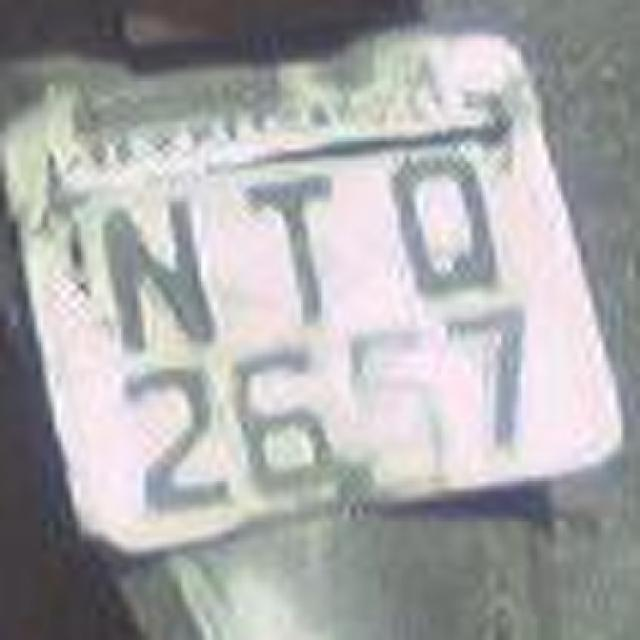2: (100, 352, 255, 528)
6: (212, 328, 360, 504)
7: (424, 280, 568, 452), (325, 304, 460, 476)
N: (84, 184, 224, 368)
Q: (376, 131, 509, 304)
T: (236, 160, 364, 332)
